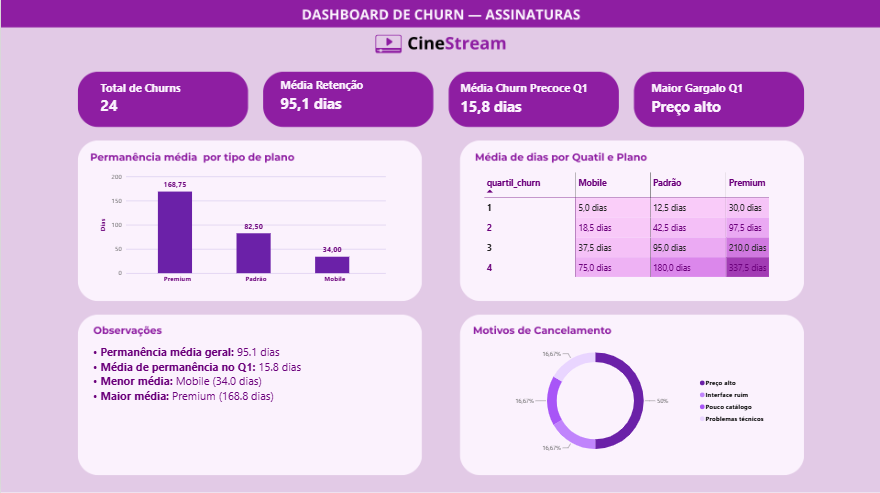

What the dashboard file says about the page in this screenshot:
{"tool":"powerbi","page":{"name":"Página 1","canvas":[1920,1080],"ordinal":0},"visuals":[{"type":"cardVisual","fields":{"Data":["assinatura_churn.Medida"]},"box":[200,170,261.3,91.2],"z":0},{"type":"cardVisual","fields":{"Data":["assinatura_churn.Média Retenção"]},"box":[594,160,262,102],"z":1000},{"type":"cardVisual","fields":{"Data":["assinatura_churn.Média Churn Precoce Q1"]},"box":[986,170,370,92],"z":2000},{"type":"cardVisual","fields":{"Data":["assinatura_churn.Maior Gargalo Q1"]},"box":[1402,170,288,92],"z":3000},{"type":"columnChart","fields":{"Category":["assinatura_churn.tipo_plano"],"Y":["Avg(assinatura_churn.dias_assinatura)"]},"box":[200,362.5,655,280],"z":4000},{"type":"pivotTable","fields":{"Columns":["assinatura_churn.tipo_plano"],"Rows":["assinatura_churn.quartil_churn"],"Values":["assinatura_churn.Média Retenção"]},"box":[1038.3,363.3,690,298.3],"z":5000},{"type":"donutChart","fields":{"Category":["assinatura_churn.motivo_cancelamento"],"Y":["Count(assinatura_churn.id_cliente)"]},"box":[1054.9,722.2,635.9,310.6],"z":6000},{"type":"textbox","box":[199.6,751.7,732,241.5],"z":7000}]}

Visuals, with their boxes in screenshot pixels (x1, y1, x2, y2), scaled from the page's 1920x1080 canvas onto the 880x493 screenshot:
cardVisual - assinatura_churn.Medida: [92, 78, 211, 119]
cardVisual - assinatura_churn.Média Retenção: [272, 73, 392, 120]
cardVisual - assinatura_churn.Média Churn Precoce Q1: [452, 78, 622, 120]
cardVisual - assinatura_churn.Maior Gargalo Q1: [643, 78, 775, 120]
columnChart - assinatura_churn.tipo_plano x Avg(assinatura_churn.dias_assinatura): [92, 165, 392, 293]
pivotTable - assinatura_churn.tipo_plano x assinatura_churn.quartil_churn: [476, 166, 792, 302]
donutChart - assinatura_churn.motivo_cancelamento x Count(assinatura_churn.id_cliente): [483, 330, 775, 471]
textbox: [91, 343, 427, 453]
